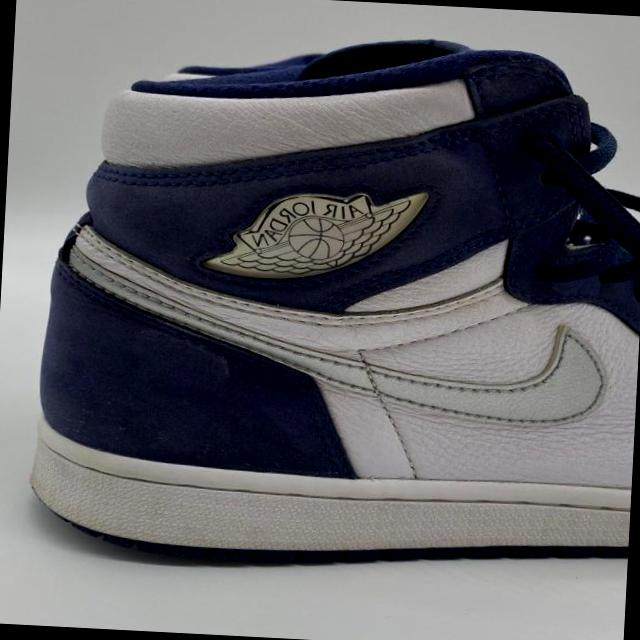nike_original_jordan: (26, 16, 640, 580)
